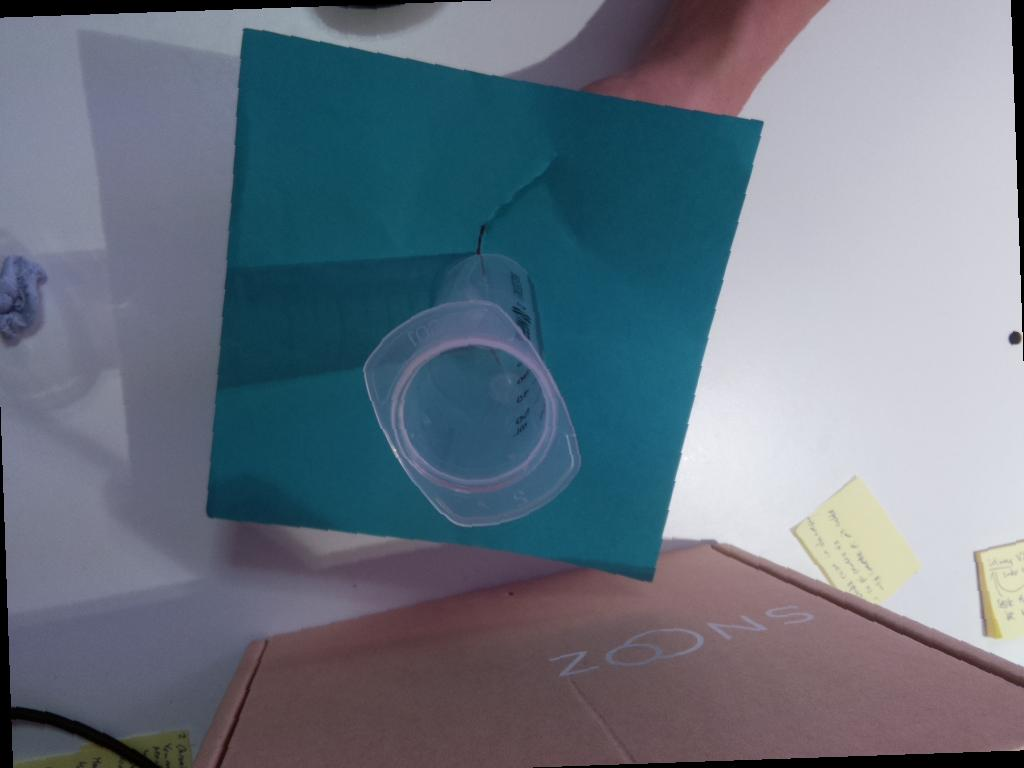clean: (359, 296, 583, 529)
